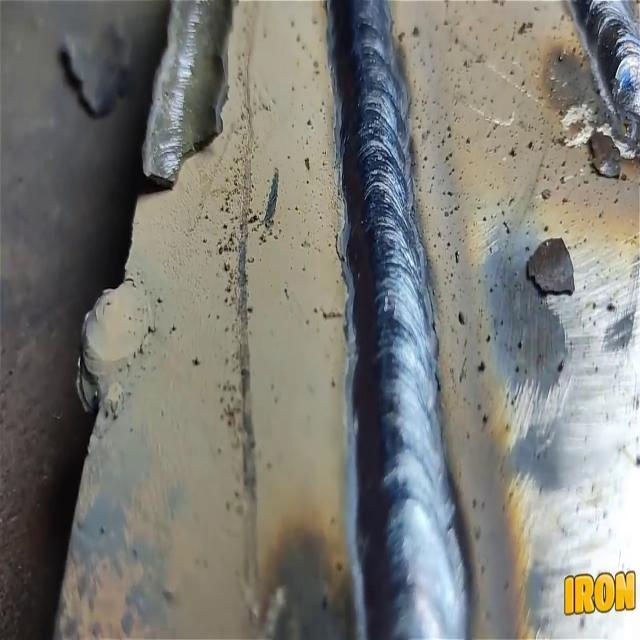Good Weld: (321, 0, 474, 600)
